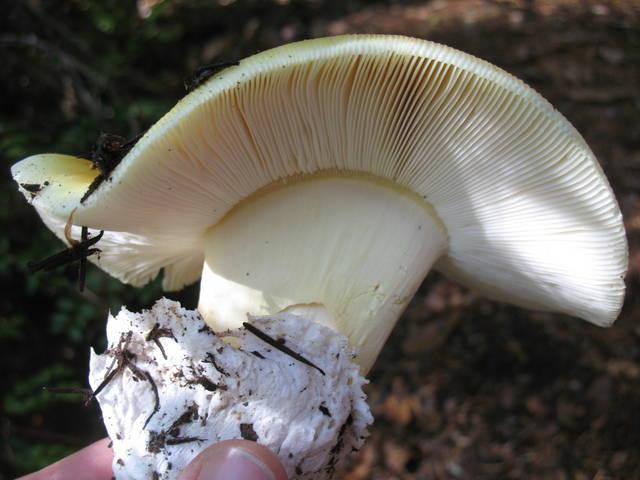Edible Mushroom: (63, 31, 630, 381)
